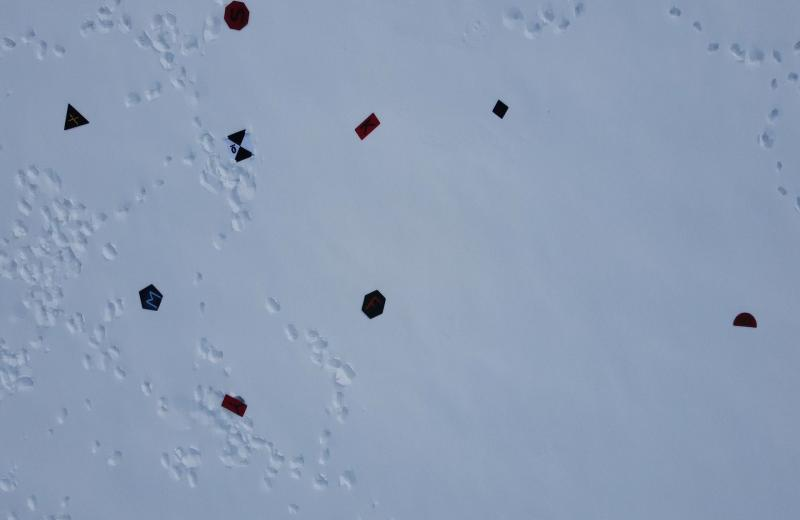Hexagon: (360, 288, 388, 322)
Octagon: (222, 0, 254, 35)
Pentagon: (134, 282, 165, 316)
Rectangle: (218, 392, 252, 421), (355, 114, 380, 142)
Semi Circle: (729, 312, 763, 330)
Square: (488, 98, 512, 120)
Triangle: (61, 101, 91, 135)
